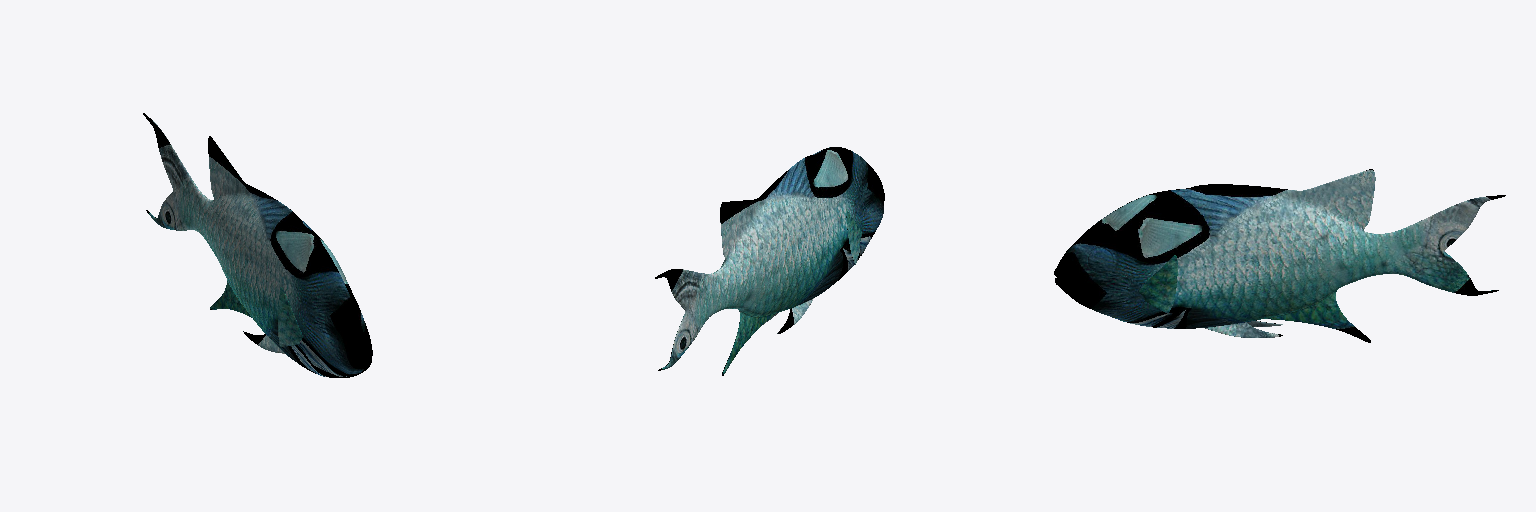
3 views of the same model, side by side, from view 1: azimuth 30°, elevation 25°; view 2: azimuth 150°, elevation 25°; view 3: azimuth 270°, elevation 25° (orthographic).
Visible parts, largest first — view 1: 13007_Blue-Green_Reef_Chromis_v2_l3; view 2: 13007_Blue-Green_Reef_Chromis_v2_l3; view 3: 13007_Blue-Green_Reef_Chromis_v2_l3.
Boxes of the visible parts, x1=… form: 13007_Blue-Green_Reef_Chromis_v2_l3: x1=143, y1=113, x2=372, y2=377; 13007_Blue-Green_Reef_Chromis_v2_l3: x1=655, y1=147, x2=884, y2=375; 13007_Blue-Green_Reef_Chromis_v2_l3: x1=1054, y1=169, x2=1505, y2=342.
Bounding box in the file's own units: 1.25 × 3.26 × 7.69.
Materials: 1 (1 with a texture image).